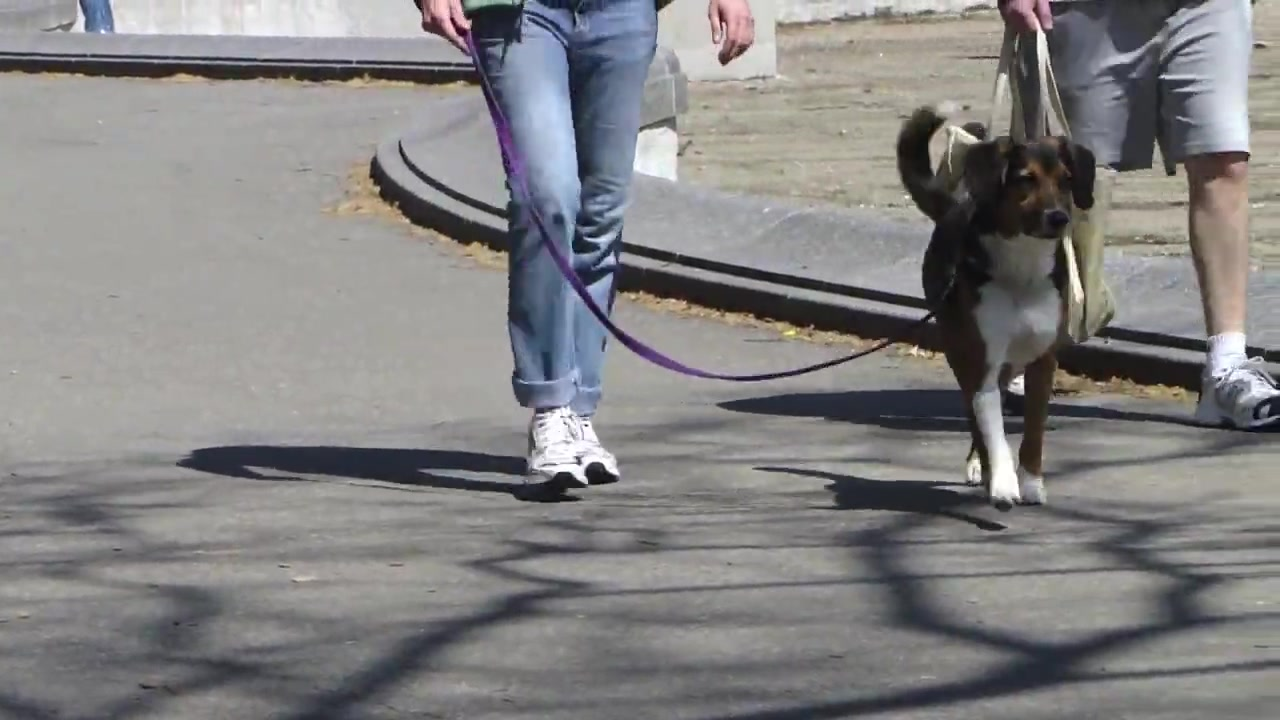dog: (896, 95, 1102, 509)
